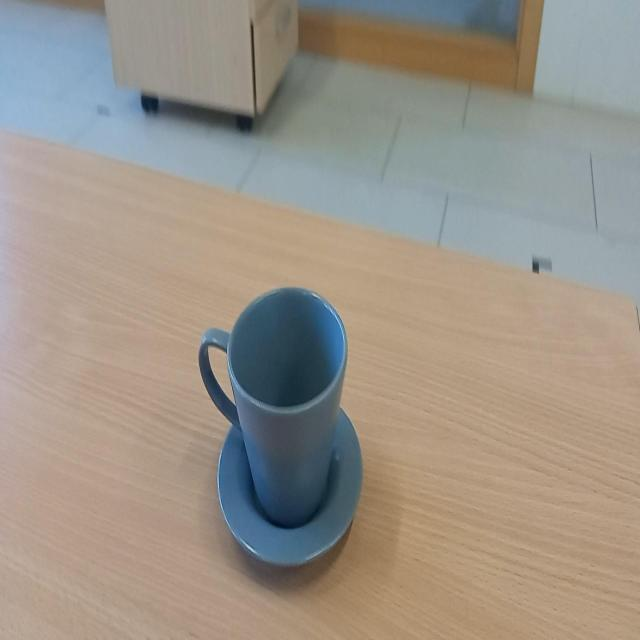cup: (196, 278, 370, 584)
